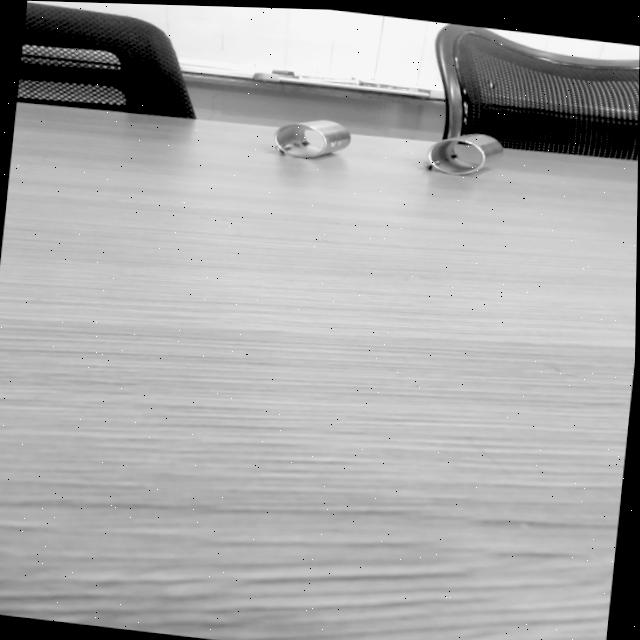Co_Lon: (421, 127, 507, 183)
Co_Nho: (273, 117, 352, 162)
